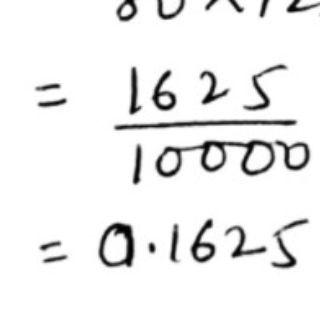.: (145, 239, 158, 258)
0: (98, 221, 137, 270)
1: (120, 64, 145, 117), (130, 140, 148, 187), (168, 221, 183, 264)
2: (223, 222, 268, 260), (195, 69, 231, 107)
5: (240, 61, 288, 112), (270, 214, 311, 272)
6: (188, 215, 220, 263), (150, 64, 180, 111)
